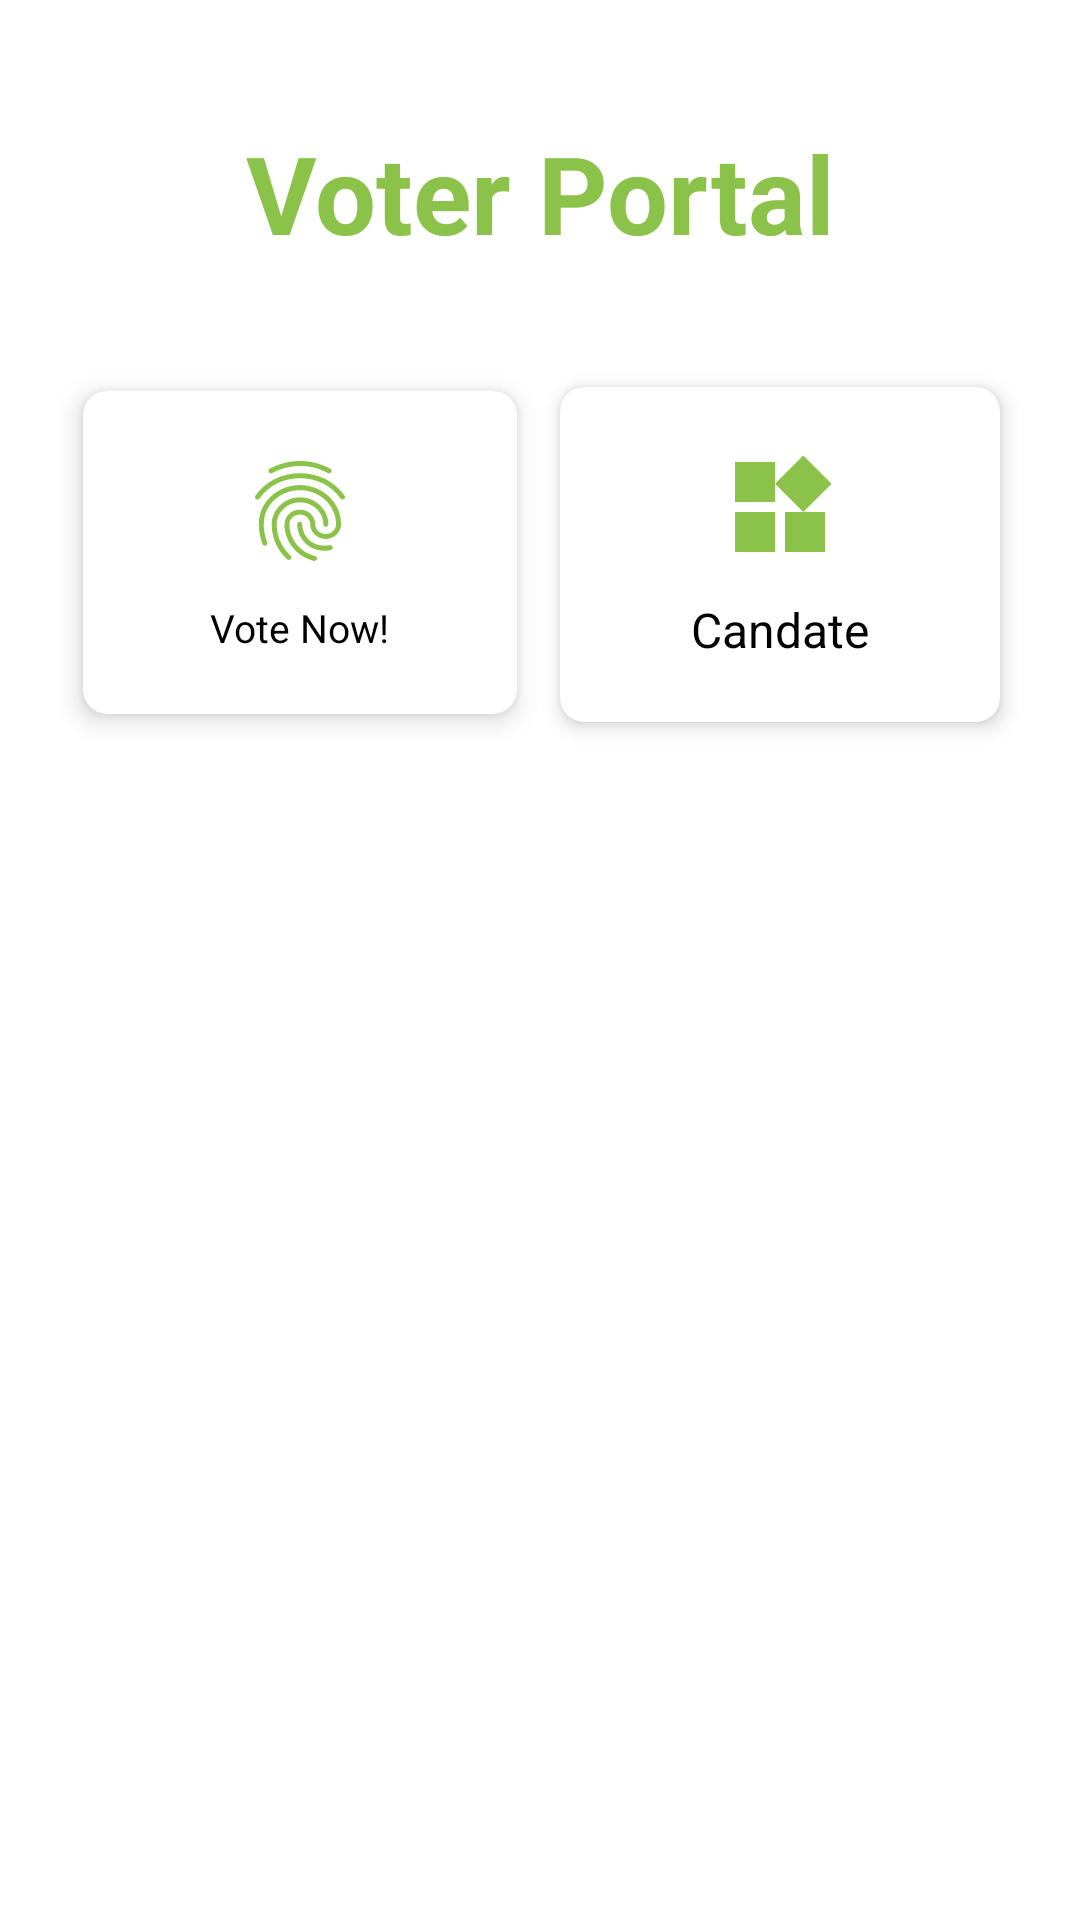

Screen size 1080px x 1920px. Icon name, then its box in pixels as (x1, y1, x2, y2):
fingerprint: (255, 461, 345, 561)
widgets: (735, 455, 832, 552)
